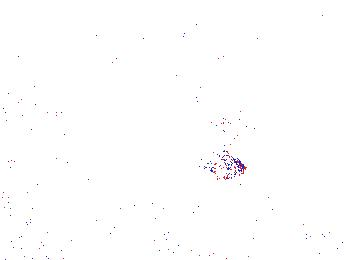X-ray fish: (210, 102, 284, 151), (207, 153, 252, 179)
